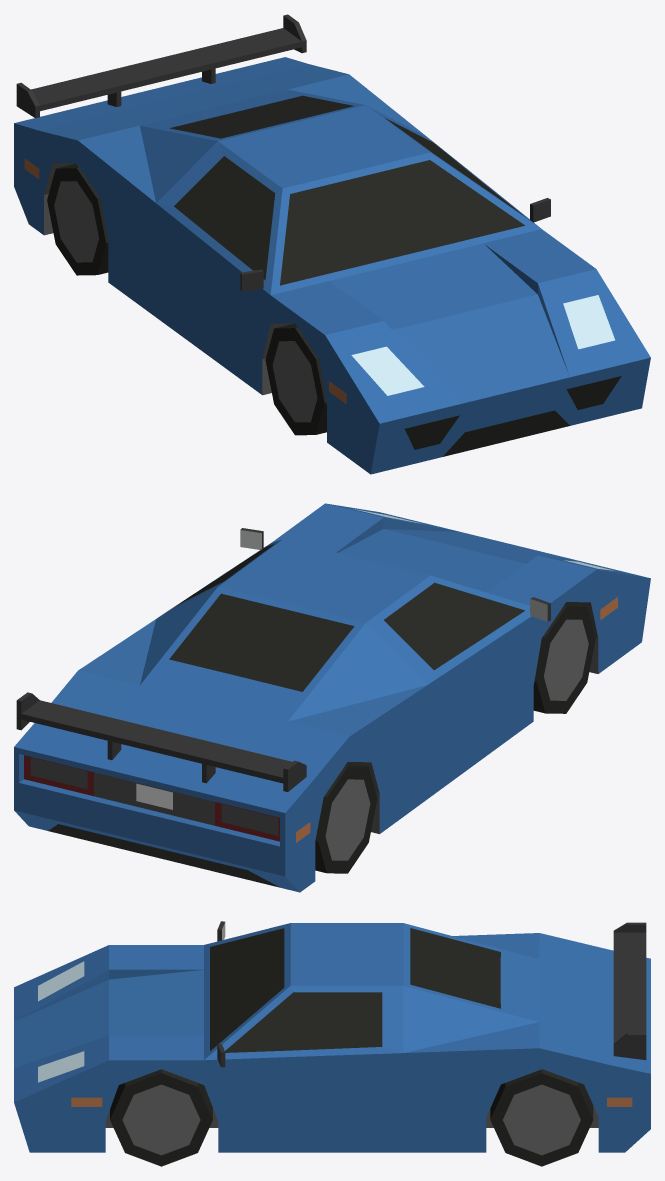
File: Veh_Sports_Car_03_Blue.glb
3 renders of one model, top to bottom at view 1: azimuth 30°, elevation 25°; view 2: azimuth 150°, elevation 25°; view 3: azimuth 270°, elevation 25°, orthographic. The views are drawn at different scales.
Parts seen in each view (by area): view 1: Sports_Car_03_Blue, Wheel_RR, Wheel_FR; view 2: Sports_Car_03_Blue, Wheel_RR, Wheel_FR; view 3: Sports_Car_03_Blue, Wheel_RL, Wheel_FL.
Boxes of the visible parts, left/top/right/bottom form: Sports_Car_03_Blue: left=14, top=14, right=650, bottom=474; Wheel_RR: left=47, top=163, right=108, bottom=275; Wheel_FR: left=265, top=323, right=326, bottom=435; Sports_Car_03_Blue: left=14, top=503, right=650, bottom=892; Wheel_RR: left=315, top=762, right=377, bottom=873; Wheel_FR: left=533, top=602, right=595, bottom=713; Sports_Car_03_Blue: left=14, top=921, right=650, bottom=1152; Wheel_RL: left=490, top=1069, right=593, bottom=1166; Wheel_FL: left=110, top=1069, right=212, bottom=1166.
Size of the model in its own units: 1.25 by 0.6867 by 2.56.
1 material, 1 textured.
